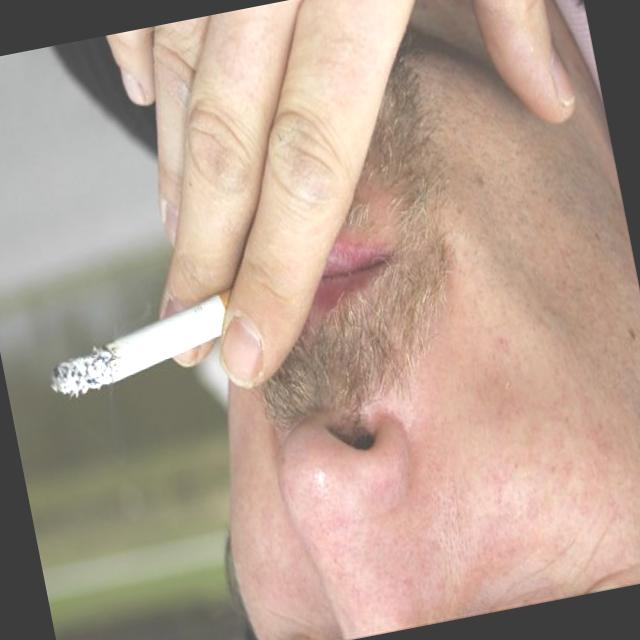cigarette: (34, 271, 268, 422)
